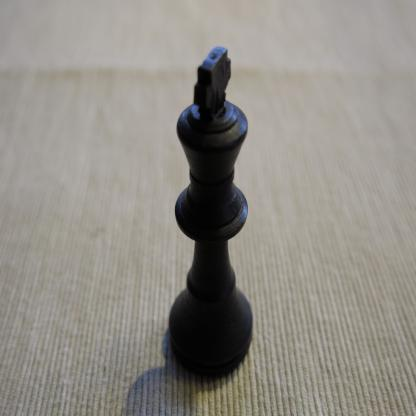black-king: (168, 45, 254, 381)
